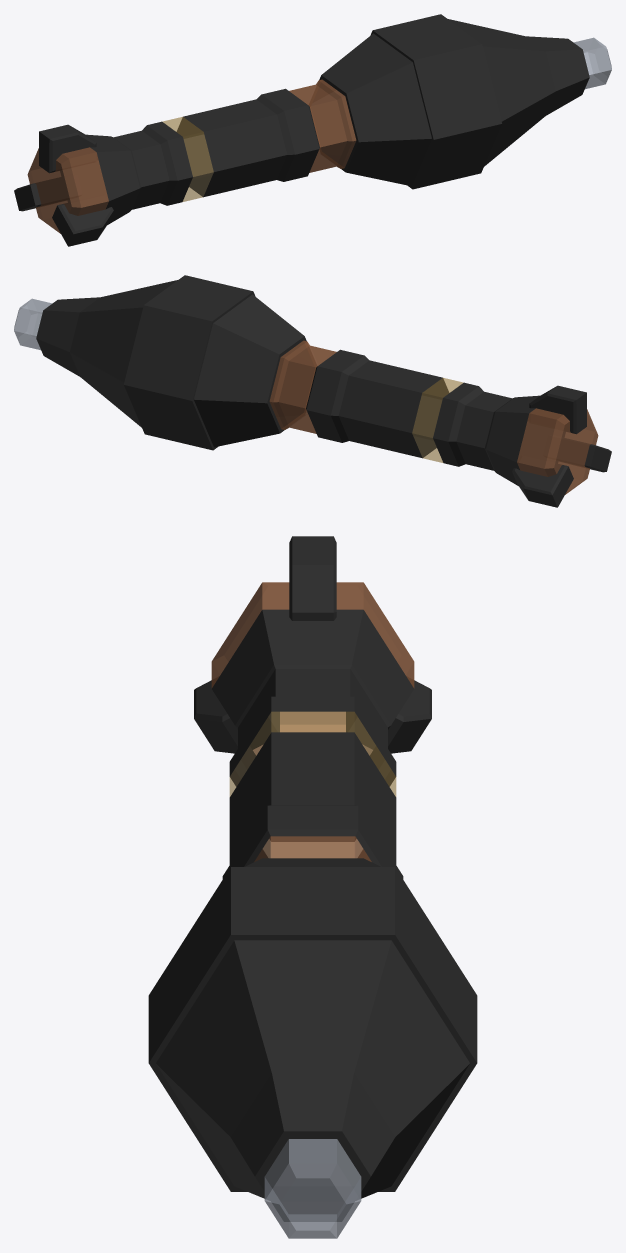
Rendered from missilie.fbx.
3 renders of one model, top to bottom at view 1: azimuth 30°, elevation 25°; view 2: azimuth 150°, elevation 25°; view 3: azimuth 270°, elevation 25°, orthographic. The views are drawn at different scales.
Parts seen in each view (by area): view 1: Cylinder; view 2: Cylinder; view 3: Cylinder.
Boxes of the visible parts, x1,y1,x2,y2 form: Cylinder: (14,14,611,246); Cylinder: (14,275,611,507); Cylinder: (148,536,477,1238).
Bounding box in the file's own units: 301 × 66.47 × 76.44.
